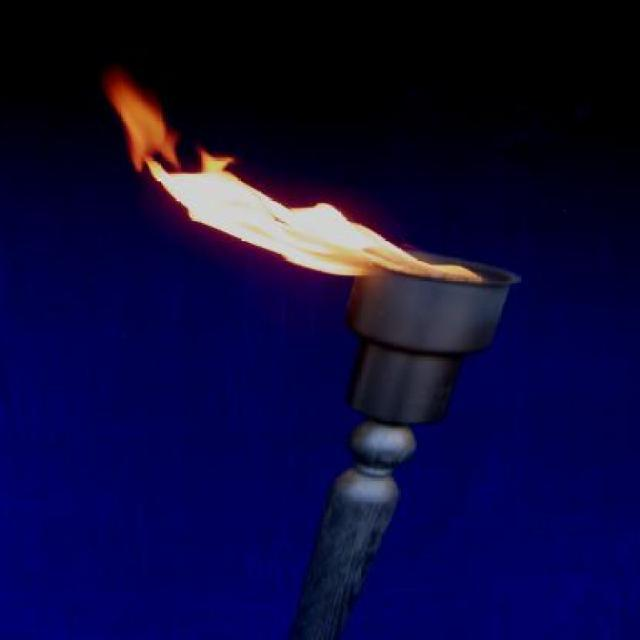Fire: (102, 64, 478, 284)
